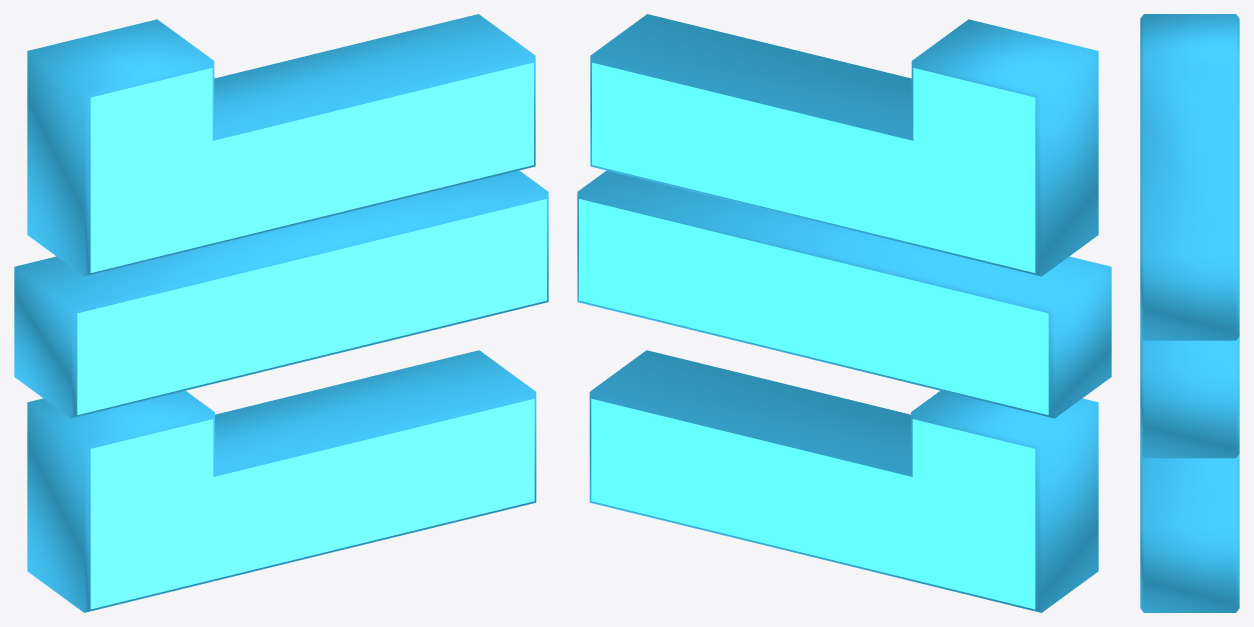
3 views of the same model, side by side, from view 1: azimuth 30°, elevation 25°; view 2: azimuth 150°, elevation 25°; view 3: azimuth 270°, elevation 25° (orthographic). The views are drawn at different scales.
Parts seen in each view (by area): view 1: glyph; view 2: glyph; view 3: glyph.
Boxes of the visible parts, x1,y1,x2,y2 form: glyph: (14,14,548,612); glyph: (577,14,1111,612); glyph: (1140,14,1239,612).
Size of the model in its own units: 0.0725 by 0.0755 by 0.0162.
